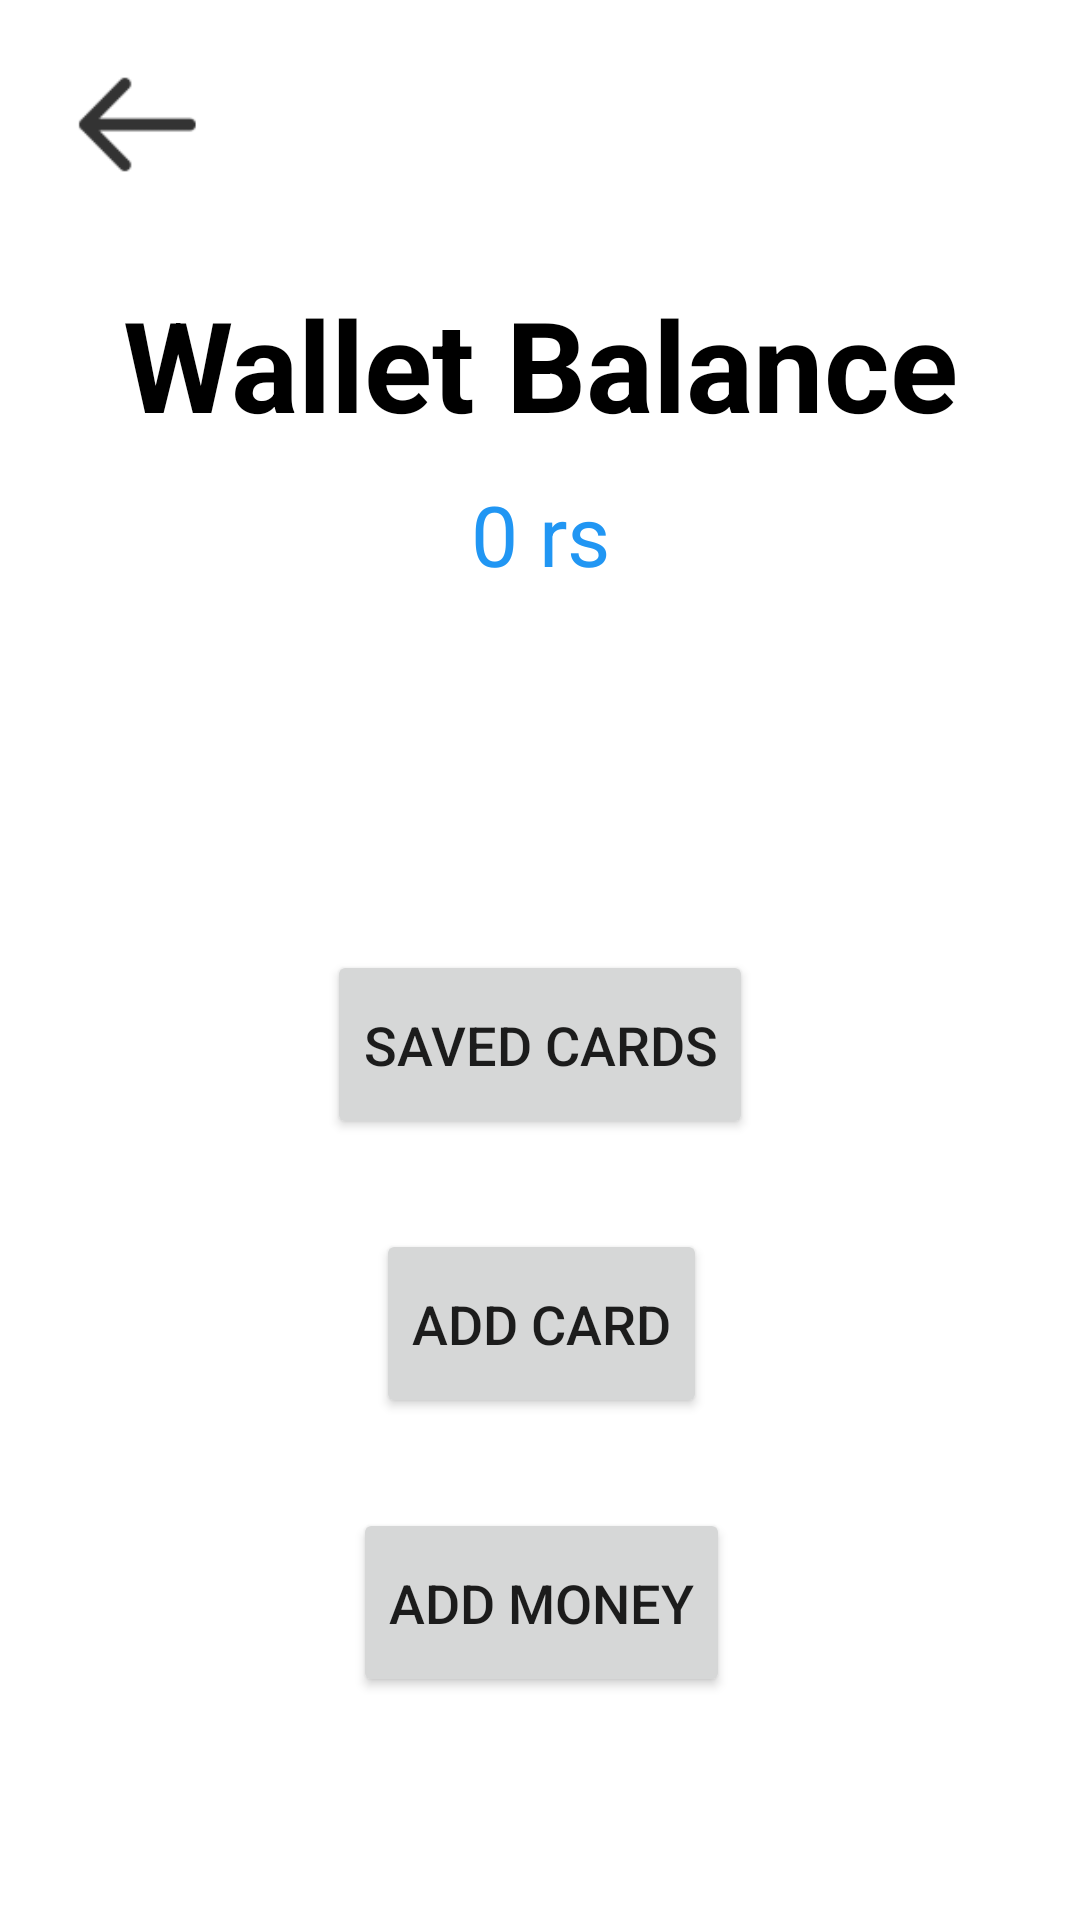

Named icons in this screenshot (1080 x 1920) and their bounding boxes, (x1, y1, x2, y2):
back arrow: (78, 77, 196, 172)
